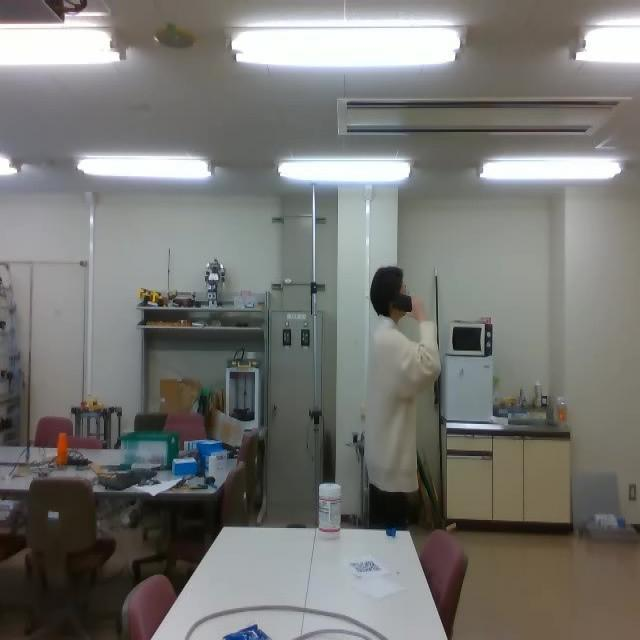Phone: (390, 290, 415, 314)
